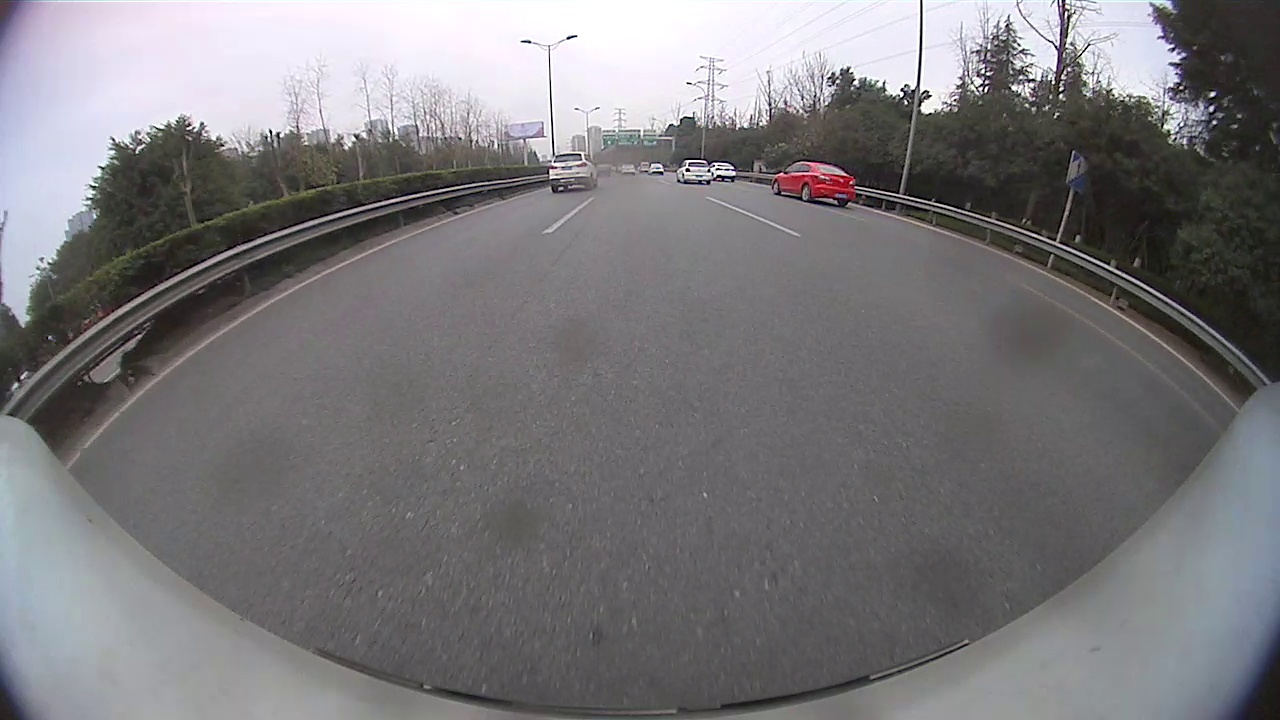car: (772, 157, 856, 206), (547, 150, 599, 193), (677, 159, 714, 184), (711, 163, 738, 183)
front: (772, 183, 781, 198)
rear: (800, 186, 813, 202)
